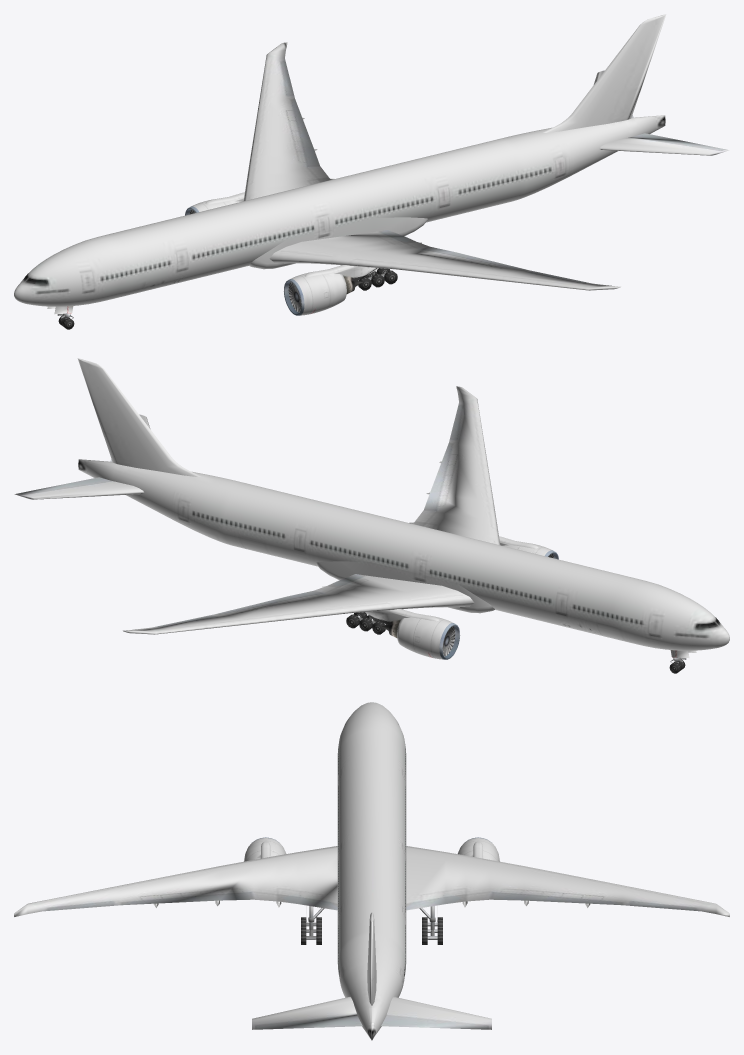
The picture shows the model from 3 angles, top to bottom: view 1: azimuth 30°, elevation 25°; view 2: azimuth 150°, elevation 25°; view 3: azimuth 270°, elevation 25°; orthographic projection. The views are drawn at different scales.
Visible parts, largest first — view 1: airframe, gear; view 2: airframe, gear; view 3: airframe, gear.
Part boxes in pixels (<box>): airframe: <box>14,14,729,315</box>; gear: <box>47,268,397,329</box>; airframe: <box>14,358,729,659</box>; gear: <box>346,612,696,673</box>; airframe: <box>14,702,729,1040</box>; gear: <box>301,905,442,944</box>.
Bounding box in the file's own units: 73.86 × 18.26 × 64.8.
1 material, 1 textured.
